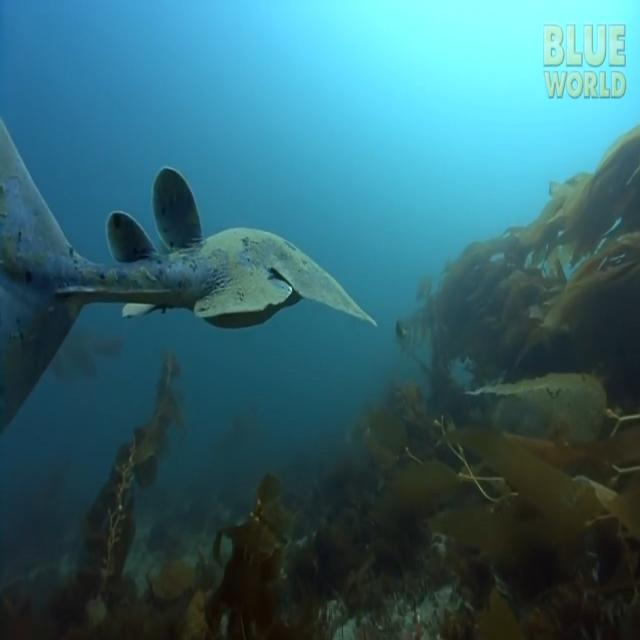Torpedo -Electrical-: (0, 116, 377, 437)
